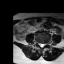CCS_normal: (40, 40, 43, 50)
LFS_normal: (45, 40, 47, 47)
LLS_normal: (43, 41, 45, 48)
RFS_normal: (36, 39, 38, 46)
RLS_normal: (38, 40, 40, 48)
